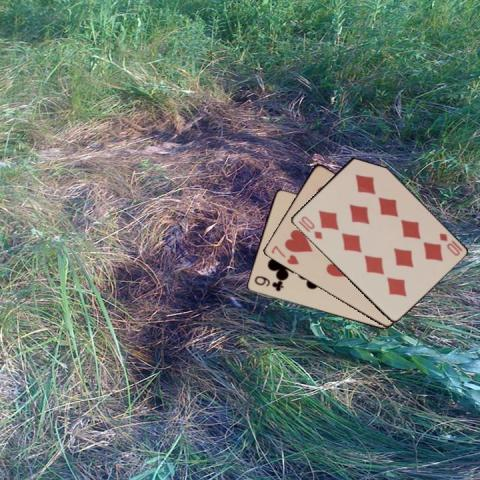10d: (295, 213, 323, 241), (436, 230, 464, 257)
7h: (268, 243, 300, 266)
9c: (251, 273, 285, 293)
